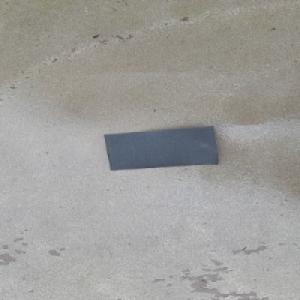PaintChip: (103, 125, 219, 171)
